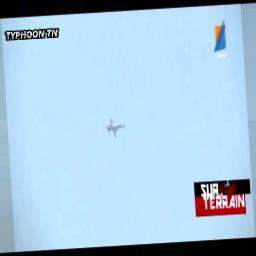Airplane: (105, 119, 127, 138)
